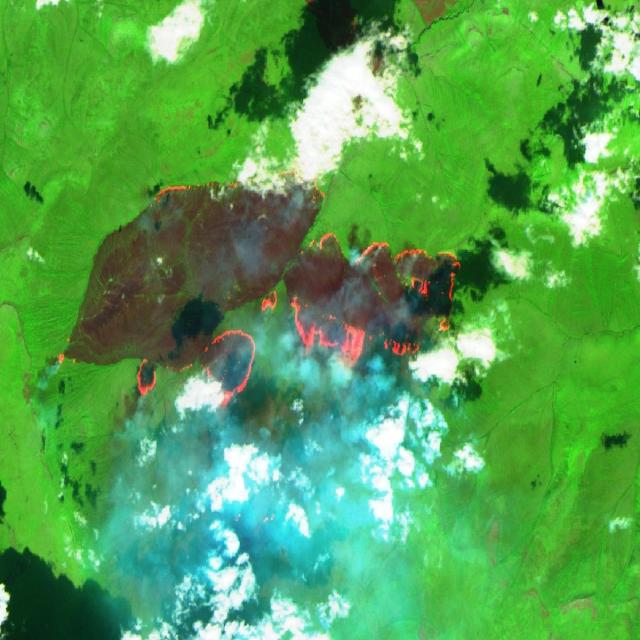fire: (52, 159, 466, 414)
